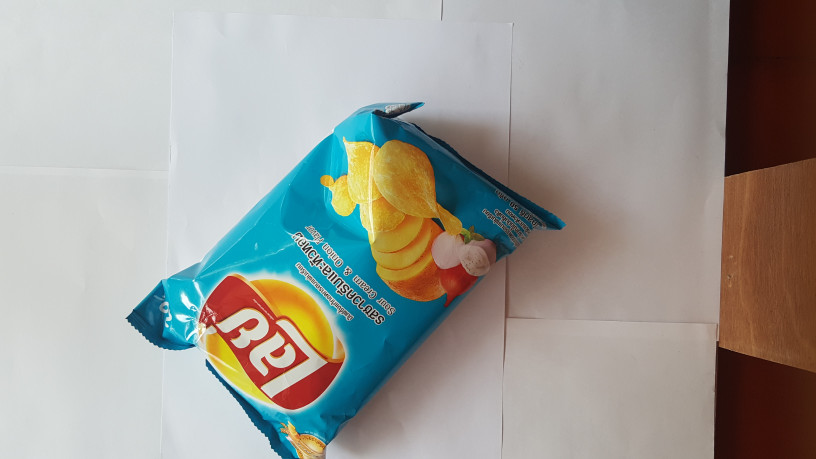lays-onion: (114, 85, 569, 459)
